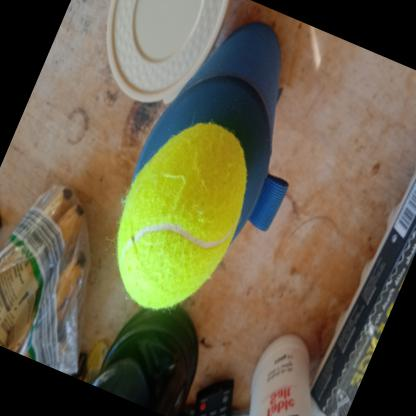Tennis: (85, 97, 274, 332)
